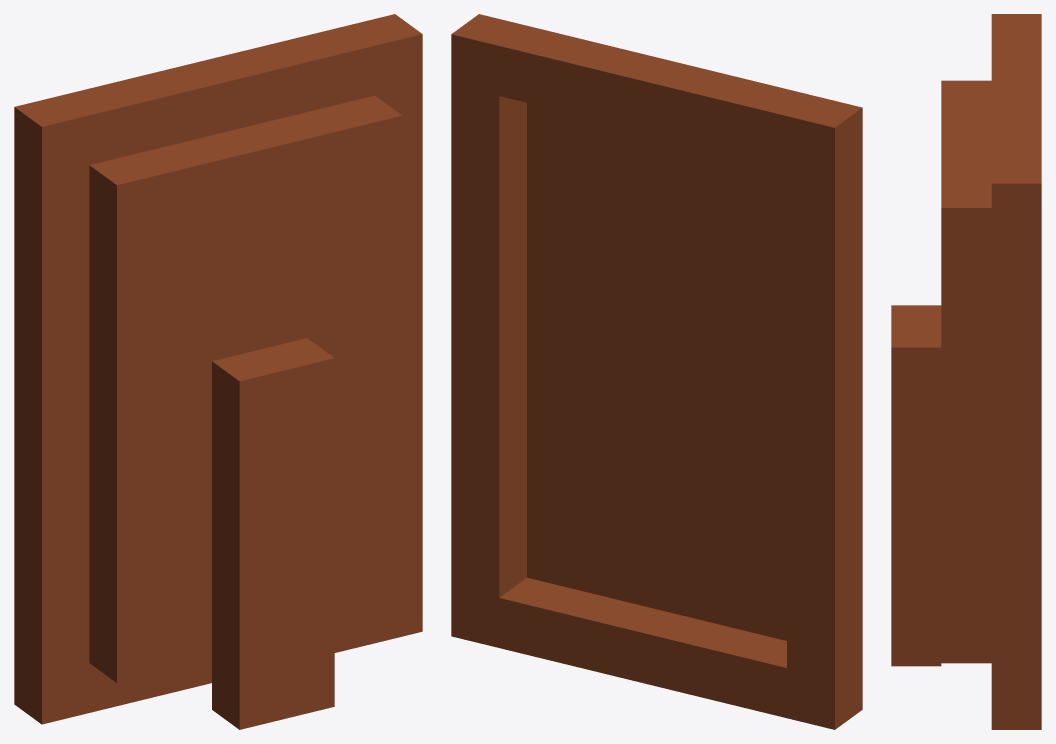
Rendered from picture_frame_medium.glb.
The picture shows the model from 3 angles, left to right: view 1: azimuth 30°, elevation 25°; view 2: azimuth 150°, elevation 25°; view 3: azimuth 270°, elevation 25°; orthographic projection. The views are drawn at different scales.
Parts seen in each view (by area): view 1: Untitled.001, Untitled; view 2: Untitled.001; view 3: Untitled.001, Untitled.
Boxes of the visible parts, <box> form: Untitled.001: <box>14,14,422,724</box>; Untitled: <box>212,338,334,729</box>; Untitled.001: <box>451,14,862,729</box>; Untitled.001: <box>941,14,1041,729</box>; Untitled: <box>891,305,941,666</box>.
Bounding box in the file's own units: 0.24 × 0.36 × 0.09.
Materials: 2 (2 with a texture image).
